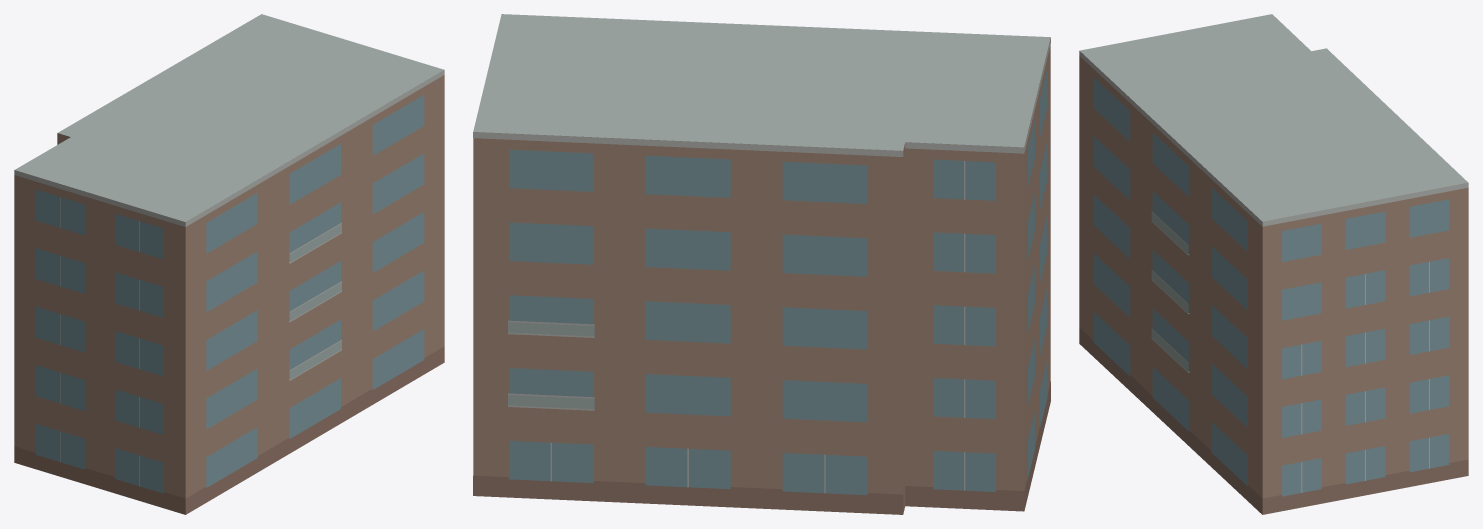
The model's file is survey-upis-32602579.glb.
The picture shows the model from 3 angles, left to right: view 1: azimuth 30°, elevation 25°; view 2: azimuth 150°, elevation 25°; view 3: azimuth 270°, elevation 25°; orthographic projection. The views are drawn at different scales.
Parts seen in each view (by area): view 1: survey-upis-32602579.tmp; view 2: survey-upis-32602579.tmp; view 3: survey-upis-32602579.tmp.
Part boxes in pixels (left/top/right/bottom): survey-upis-32602579.tmp: left=14, top=14, right=444, bottom=514; survey-upis-32602579.tmp: left=473, top=14, right=1050, bottom=514; survey-upis-32602579.tmp: left=1079, top=14, right=1468, bottom=514.
Bounding box in the file's own units: 21.75 × 14.3 × 17.21.
